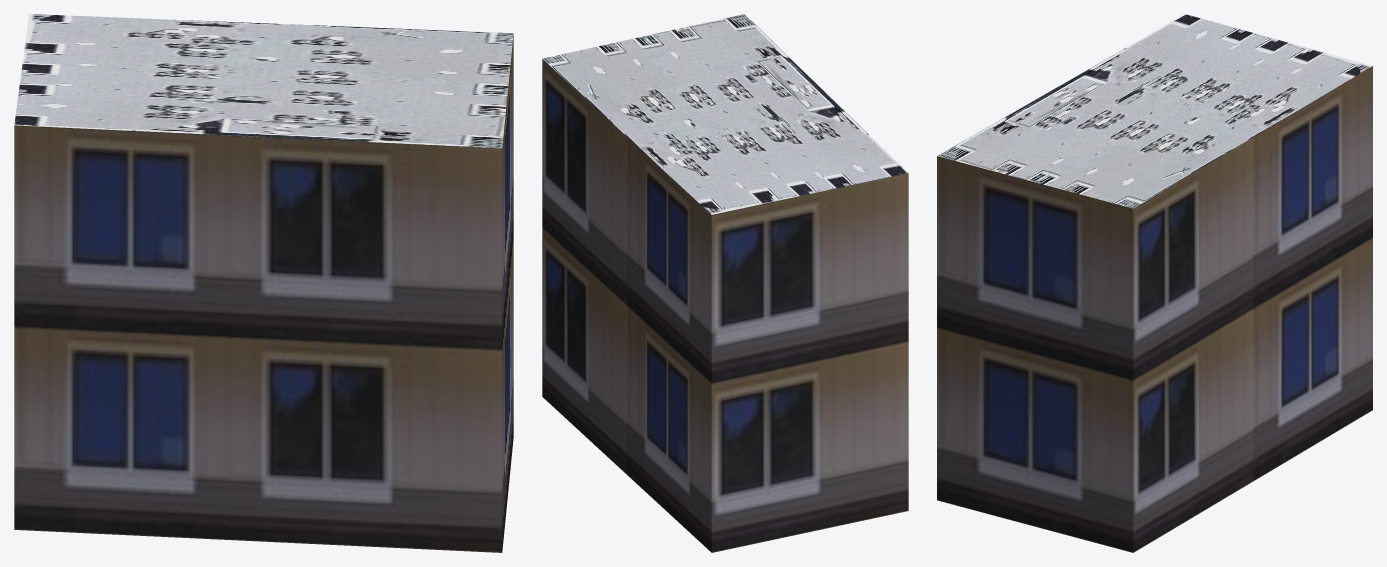
The model's file is ResTex__1840.fbx.
3 renders of one model, left to right at view 1: azimuth 30°, elevation 25°; view 2: azimuth 150°, elevation 25°; view 3: azimuth 270°, elevation 25°, orthographic. The views are drawn at different scales.
Visible parts, largest first — view 1: CityEngineMaterial_5_m, CityEngineMaterial_8_m; view 2: CityEngineMaterial_5_m, CityEngineMaterial_8_m; view 3: CityEngineMaterial_5_m, CityEngineMaterial_8_m.
Part boxes in pixels (left/top/right/bottom): CityEngineMaterial_5_m: left=14, top=35, right=513, bottom=552; CityEngineMaterial_8_m: left=14, top=14, right=513, bottom=148; CityEngineMaterial_5_m: left=542, top=59, right=908, bottom=552; CityEngineMaterial_8_m: left=542, top=14, right=908, bottom=214; CityEngineMaterial_5_m: left=937, top=66, right=1372, bottom=552; CityEngineMaterial_8_m: left=937, top=14, right=1372, bottom=208.
Size of the model in its own units: 7.28 by 6 by 6.89.
2 materials, 2 textured.
